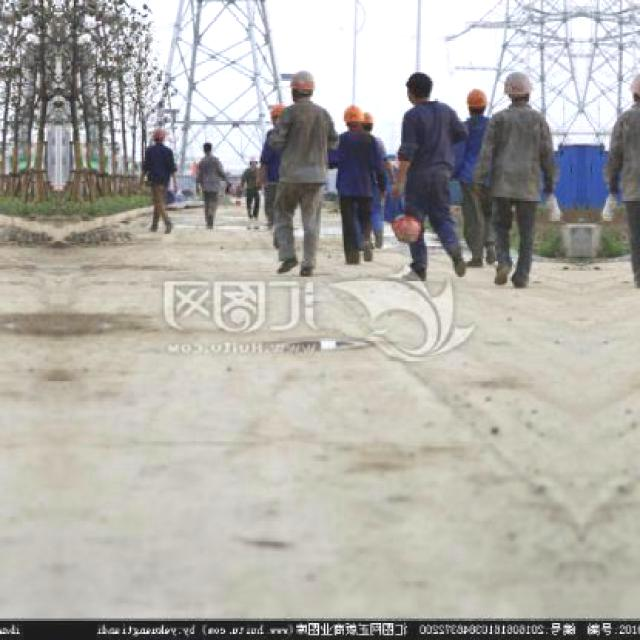head_helmet: (502, 69, 534, 98), (288, 68, 317, 92), (464, 85, 489, 110), (344, 104, 364, 125)
head_nohelmet: (406, 71, 434, 91)
person: (466, 69, 556, 292), (256, 68, 338, 280), (394, 68, 462, 284), (332, 102, 384, 272), (142, 127, 178, 238)
